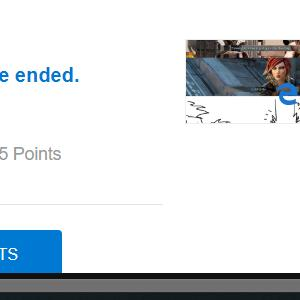edge: (276, 83, 297, 105)
